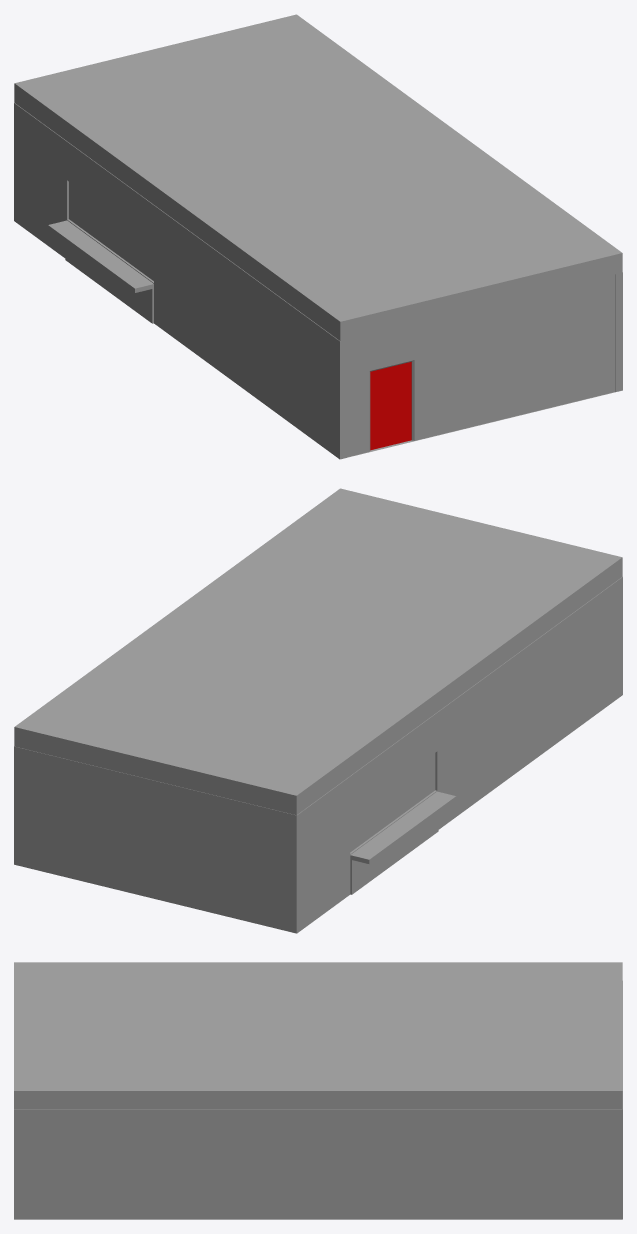
The model's file is BgMD_yoshinuma_SecurityRoom_0301.fbx.
The picture shows the model from 3 angles, top to bottom: view 1: azimuth 30°, elevation 25°; view 2: azimuth 150°, elevation 25°; view 3: azimuth 270°, elevation 25°; orthographic projection. The views are drawn at different scales.
Visible parts, largest first — view 1: room, door001; view 2: room; view 3: room.
Boxes of the visible parts, <box> form: room: <box>14,14,622,459</box>; door001: <box>370,362,411,450</box>; room: <box>14,488,622,933</box>; room: <box>14,962,622,1219</box>.
Bounding box in the file's own units: 803 × 358 × 1501.
